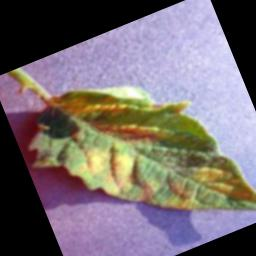Leaf_Mold: (12, 36, 256, 256)
